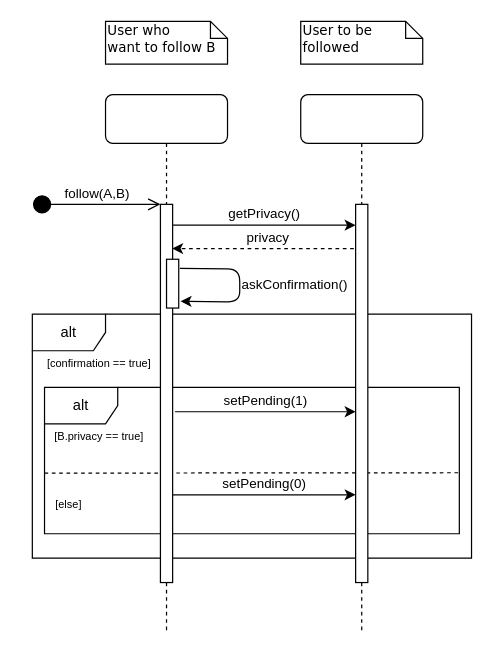
This 493x653 diagram has some shape labels left out. Each missing label, with the box of its shape:
A:User: (104, 93, 228, 631)
B:User: (300, 93, 423, 631)
